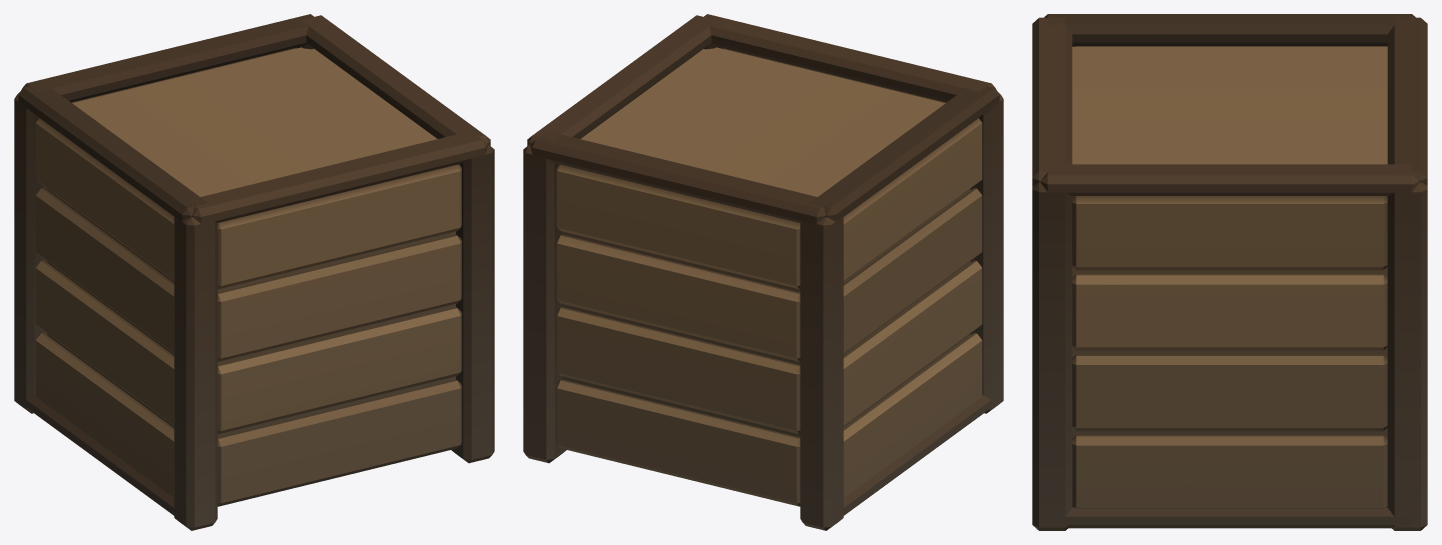
File: crate.glb
3 views of the same model, side by side, from view 1: azimuth 30°, elevation 25°; view 2: azimuth 150°, elevation 25°; view 3: azimuth 270°, elevation 25° (orthographic). The views are drawn at different scales.
Parts seen in each view (by area): view 1: plank-001; view 2: plank-001; view 3: plank-001.
Boxes of the visible parts, left/top/right/bottom form: plank-001: left=14, top=14, right=494, bottom=530; plank-001: left=523, top=14, right=1003, bottom=530; plank-001: left=1032, top=14, right=1427, bottom=530.
Size of the model in its own units: 0.6904 by 0.685 by 0.6904.
